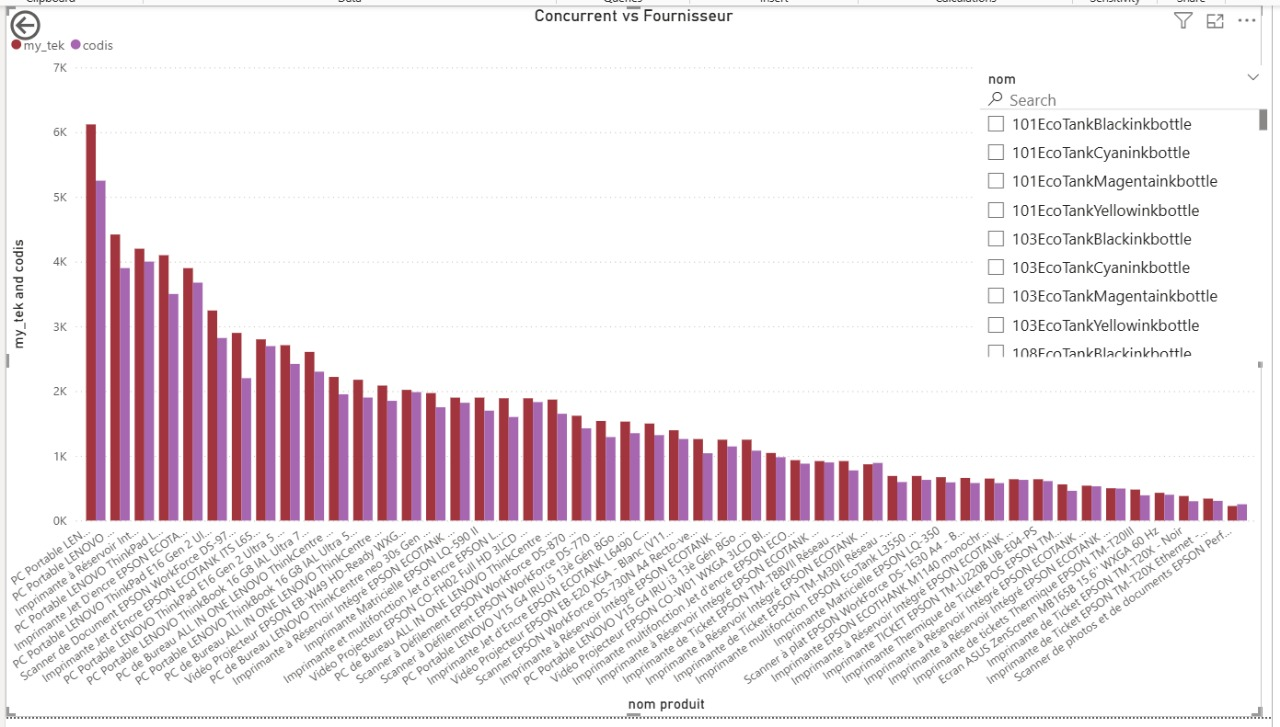

This screenshot's page, from the dashboard's own definition file:
{"tool":"powerbi","page":{"name":"concurrent vs fournisseur","canvas":[1280,720],"ordinal":1},"visuals":[{"type":"clusteredColumnChart","title":"Concurrent vs Fournisseur","fields":{"Category":["Sheet1.nom"],"Y":["Max(Sheet1.mytek_apres_remise)","Max(Sheet1.prix_codis)"]},"box":[0,0,1270,720],"z":0},{"type":"actionButton","box":[0,0,100,40],"z":1000},{"type":"slicer","fields":{"Values":["Sheet1.nom"]},"box":[980.2,60.5,300,300],"z":2000}]}

Visuals, with their boxes on the page's 1280x720 design canvas (x1, y1, x2, y2). These are canvas units, not pixel positions in the 1280x727 screenshot, which may show the page scaled, cropped or inside an application window:
"Concurrent vs Fournisseur" clusteredColumnChart: select_region(0, 0, 1270, 720)
actionButton: select_region(0, 0, 100, 40)
slicer - Sheet1.nom: select_region(980, 60, 1280, 360)
